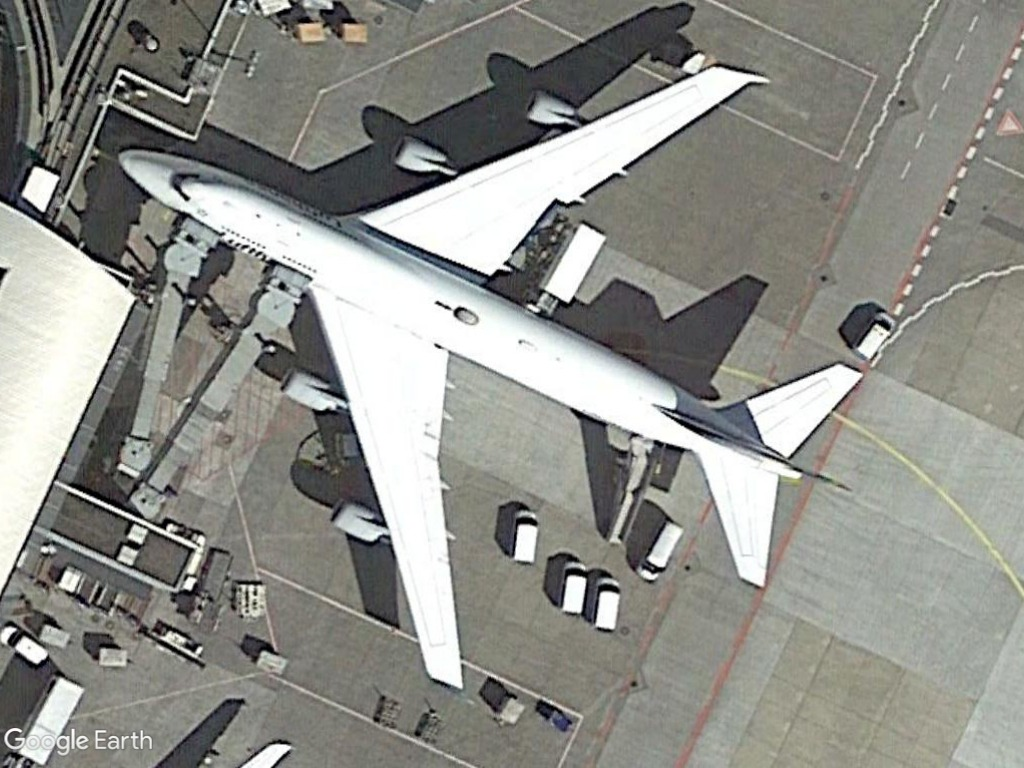airliner: (116, 59, 869, 694)
truck: (532, 218, 608, 314)
van: (630, 516, 685, 585), (849, 307, 895, 366), (0, 622, 49, 667), (555, 559, 589, 620), (587, 574, 620, 635), (510, 507, 542, 566)
